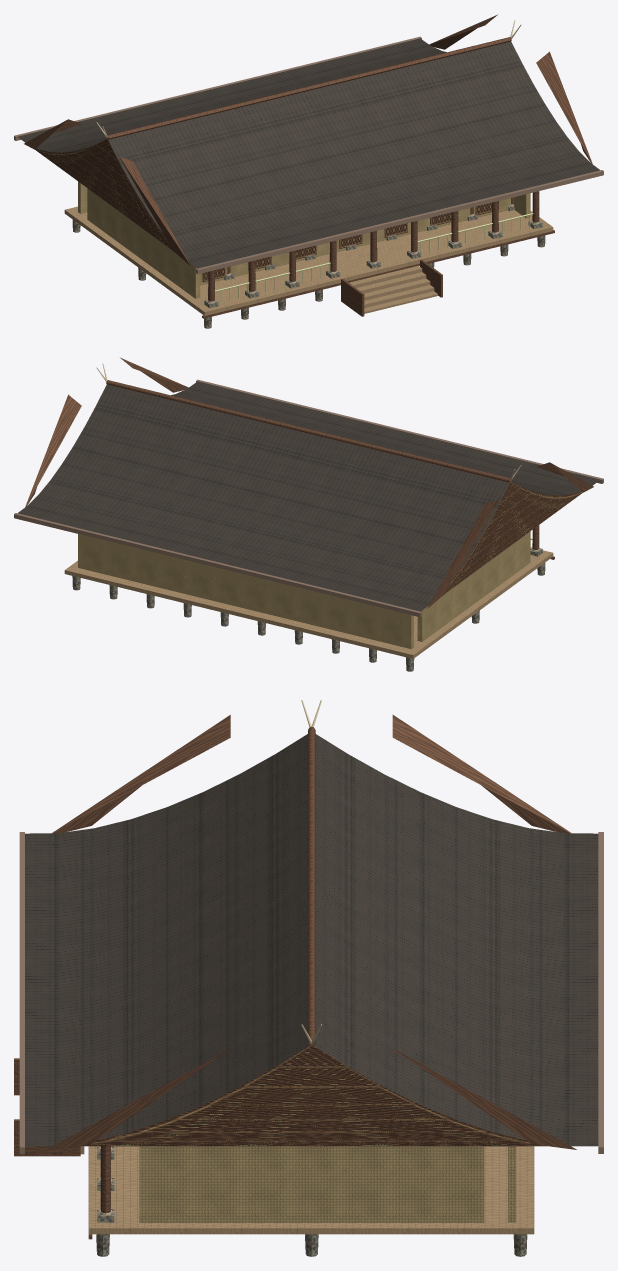
Rendered from house-placeholder.glb.
3 views of the same model, one above another, from view 1: azimuth 30°, elevation 25°; view 2: azimuth 150°, elevation 25°; view 3: azimuth 270°, elevation 25° (orthographic). The views are drawn at different scales.
Parts seen in each view (by area): view 1: house_placeholder; view 2: house_placeholder; view 3: house_placeholder.
Part boxes in pixels (x1,y1,x2,y2): house_placeholder: (14,14,603,328); house_placeholder: (14,357,603,671); house_placeholder: (14,700,603,1256).
Bounding box in the file's own units: 28.4 × 10.41 × 21.2.
Materials: 9 (6 with a texture image).
